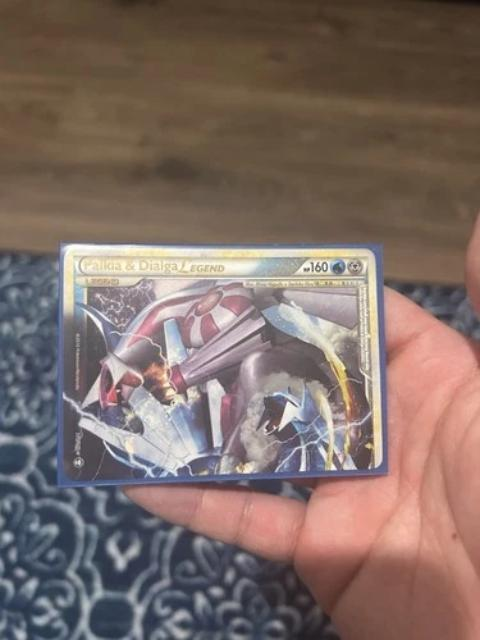Card: (61, 242, 386, 484)
Name: (78, 253, 230, 278)
